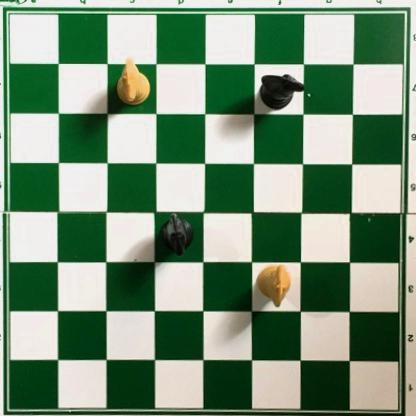black-knight: (259, 71, 304, 112), (158, 213, 197, 257)
white-knight: (114, 57, 151, 108), (255, 264, 293, 307)
